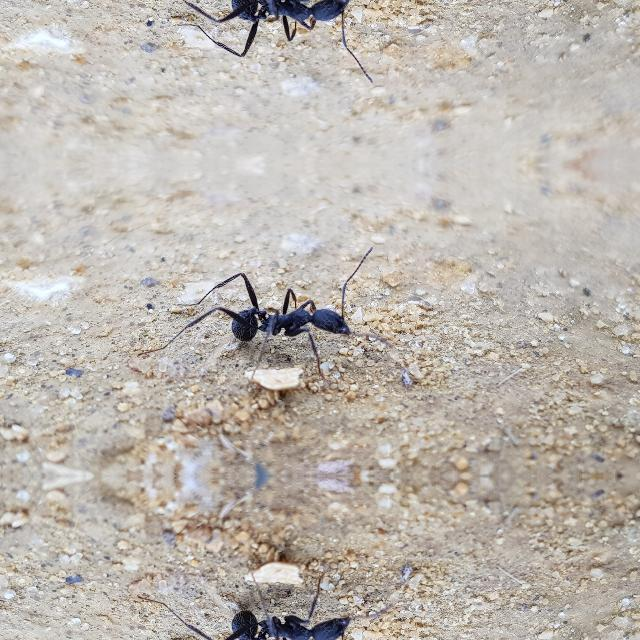Apheanogaster: (178, 268, 388, 356), (178, 0, 388, 58), (178, 594, 388, 640)
